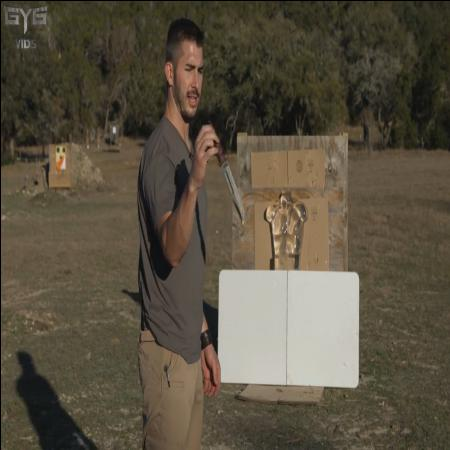long weapon: (202, 116, 246, 232)
